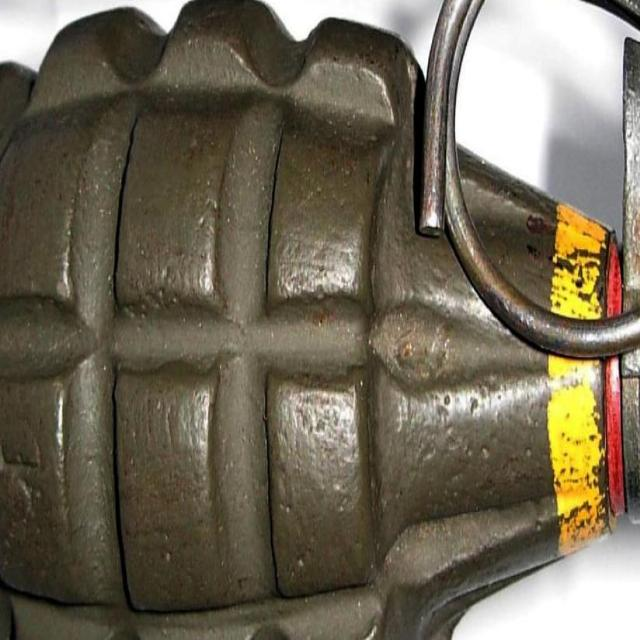grenade: (2, 1, 640, 640)
